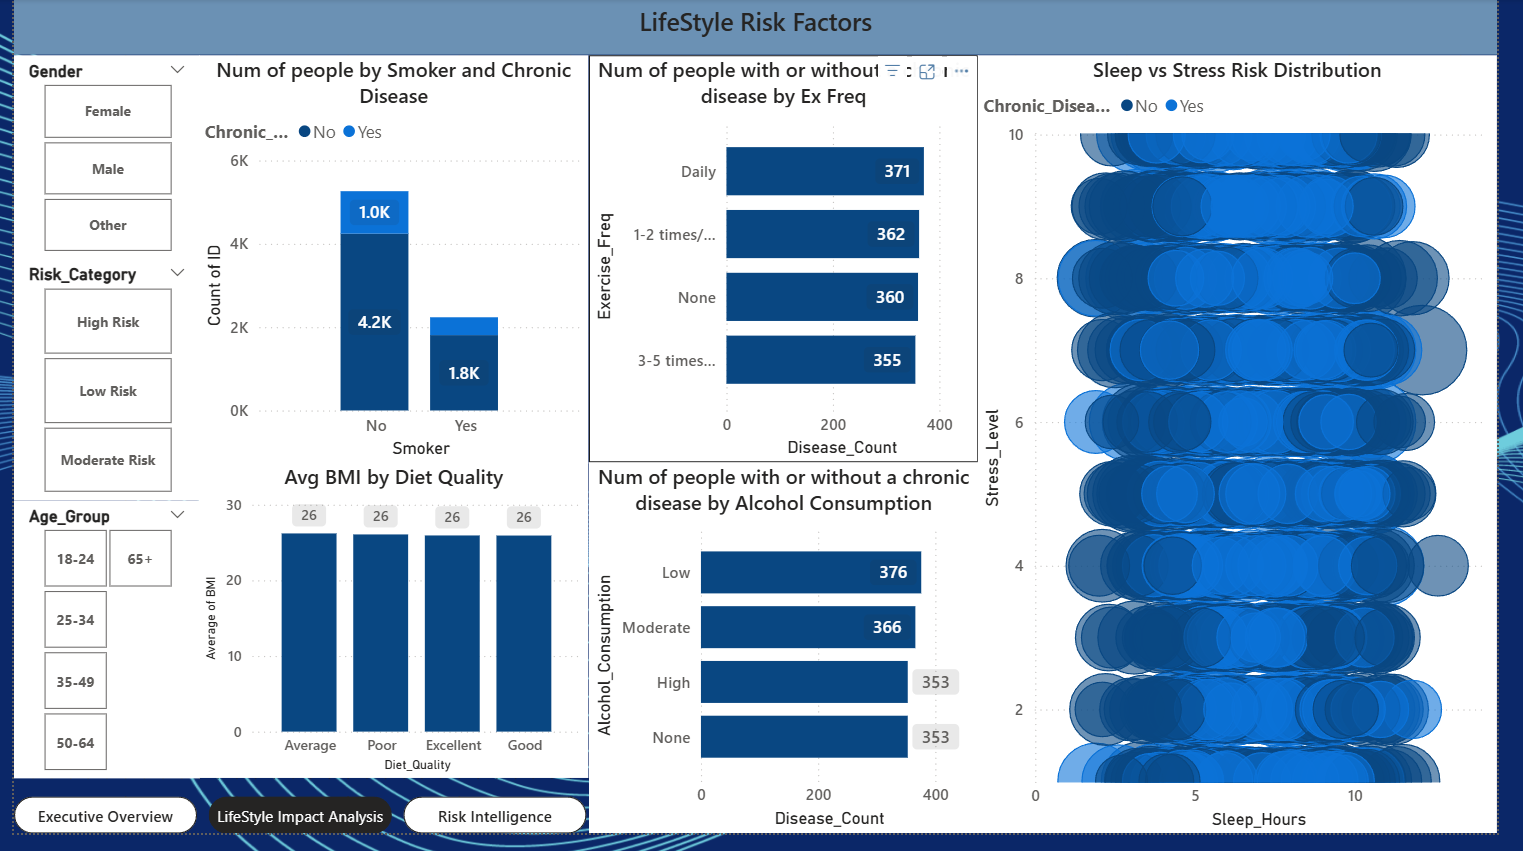

The page's visual inventory and layout, read from the dashboard file:
{"tool":"powerbi","page":{"name":"LifeStyle Impact Analysis","canvas":[1280,720],"ordinal":1},"visuals":[{"type":"columnChart","title":"Num of people by Smoker and Chronic Disease","fields":{"Category":["synthetic_health_lifestyle_dataset.Smoker"],"Series":["synthetic_health_lifestyle_dataset.Chronic_Disease"],"Y":["CountNonNull(synthetic_health_lifestyle_dataset.ID)"]},"box":[160,48,336,352],"z":0},{"type":"clusteredBarChart","title":"Num of people with or without a chronic disease by Ex Freq","fields":{"Category":["synthetic_health_lifestyle_dataset.Exercise_Freq"],"Y":["synthetic_health_lifestyle_dataset.Disease_Count"]},"box":[496,48,336,352],"z":1000},{"type":"columnChart","title":"Avg BMI by Diet Quality","fields":{"Category":["synthetic_health_lifestyle_dataset.Diet_Quality"],"Y":["Avg(synthetic_health_lifestyle_dataset.BMI)"]},"box":[160,400,336,272],"z":2000},{"type":"barChart","title":"Num of people with or without a chronic disease by Alcohol Consumption","fields":{"Category":["synthetic_health_lifestyle_dataset.Alcohol_Consumption"],"Y":["synthetic_health_lifestyle_dataset.Disease_Count"]},"box":[496,400,336,320],"z":3000},{"type":"scatterChart","title":"Sleep vs Stress Risk Distribution","fields":{"X":["synthetic_health_lifestyle_dataset.Sleep_Hours"],"Y":["synthetic_health_lifestyle_dataset.Stress_Level"],"Series":["synthetic_health_lifestyle_dataset.Chronic_Disease"],"Size":["Avg(synthetic_health_lifestyle_dataset.BMI)"]},"box":[832,48,448,672],"z":4000},{"type":"slicer","fields":{"Values":["synthetic_health_lifestyle_dataset.Gender"]},"box":[0,48,160,176],"z":5000},{"type":"slicer","fields":{"Values":["synthetic_health_lifestyle_dataset.Age_Group"]},"box":[0,432,160,240],"z":6000},{"type":"slicer","fields":{"Values":["synthetic_health_lifestyle_dataset.Risk_Category"]},"box":[0,224,160,208],"z":7000},{"type":"textbox","box":[0,0,1280,48],"z":8000},{"type":"pageNavigator","box":[0,688,496,32],"z":8001}]}

Visuals, with their boxes in screenshot pixels (x1, y1, x2, y2), scaled from the page's 1280x720 canvas onto the 1523x851 screenshot:
"Num of people by Smoker and Chronic Disease" columnChart: detection(190, 57, 590, 473)
"Num of people with or without a chronic disease by Ex Freq" clusteredBarChart: detection(590, 57, 990, 473)
"Avg BMI by Diet Quality" columnChart: detection(190, 473, 590, 794)
"Num of people with or without a chronic disease by Alcohol Consumption" barChart: detection(590, 473, 990, 850)
"Sleep vs Stress Risk Distribution" scatterChart: detection(990, 57, 1522, 850)
slicer - synthetic_health_lifestyle_dataset.Gender: detection(0, 57, 190, 265)
slicer - synthetic_health_lifestyle_dataset.Age_Group: detection(0, 511, 190, 794)
slicer - synthetic_health_lifestyle_dataset.Risk_Category: detection(0, 265, 190, 511)
textbox: detection(0, 0, 1522, 57)
pageNavigator: detection(0, 813, 590, 850)
